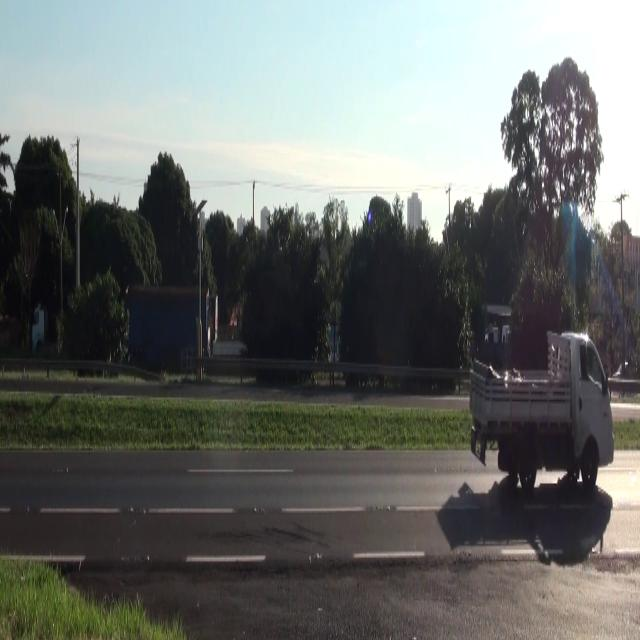-axle: (516, 449, 540, 500), (580, 438, 600, 492)
